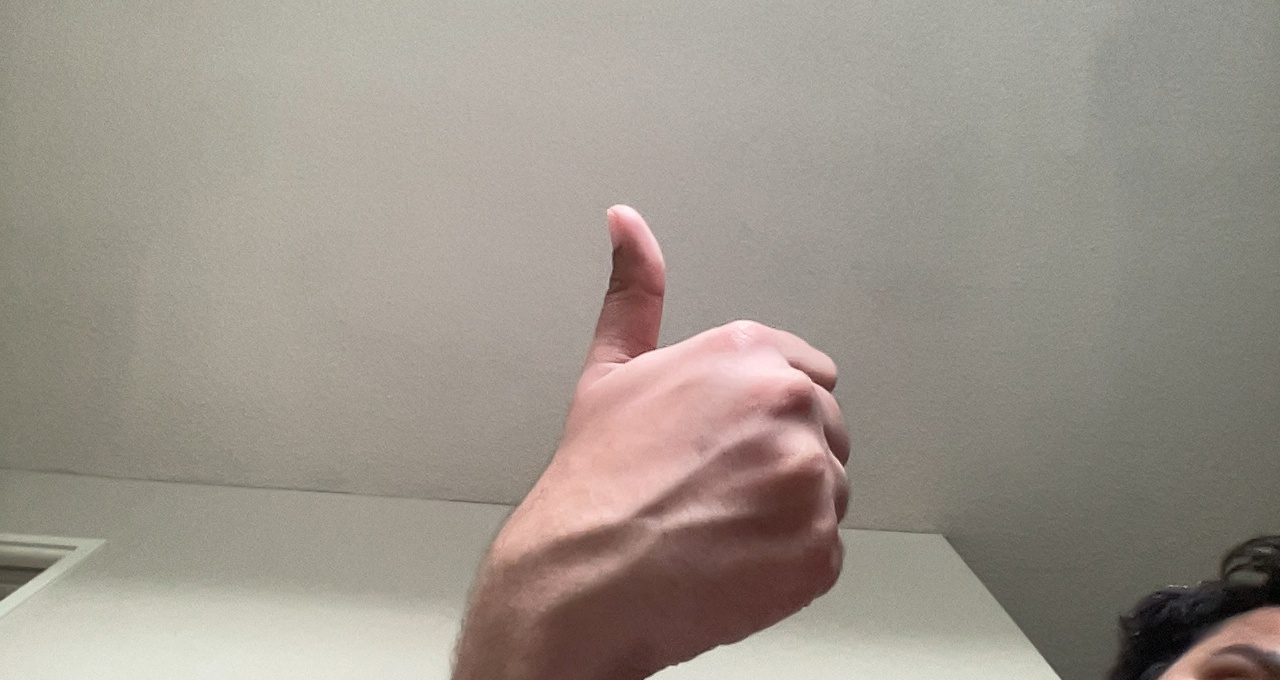thumbsup: (510, 193, 863, 636)
